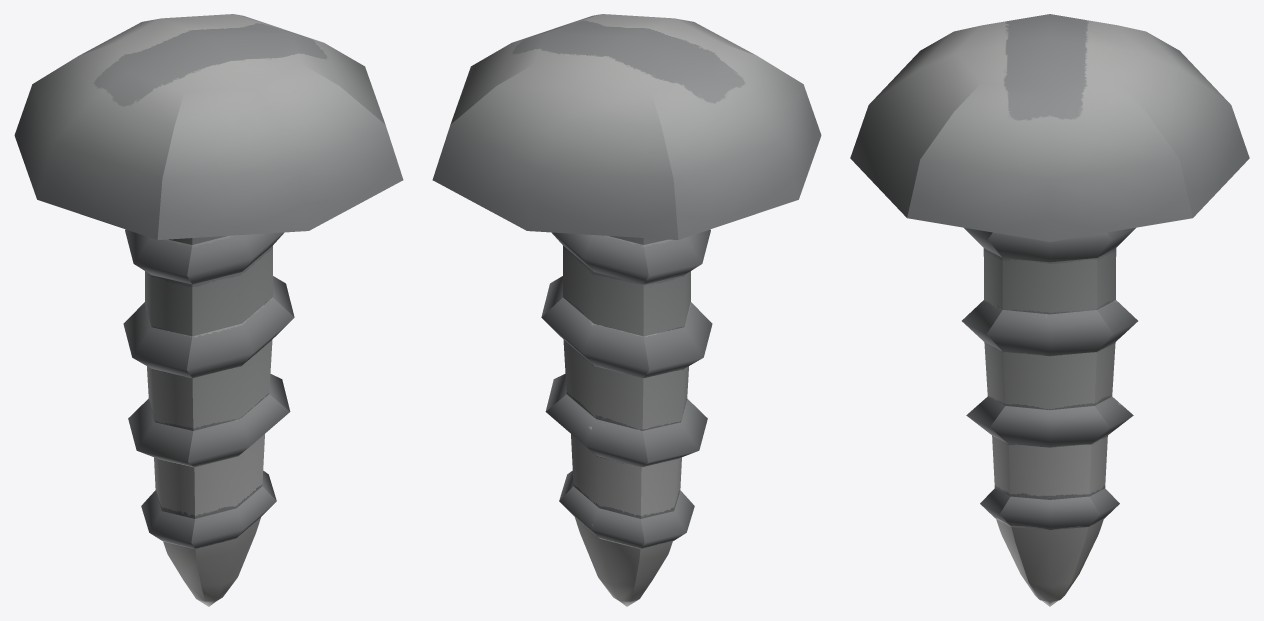
Rendered from screw.fbx.
The picture shows the model from 3 angles, left to right: view 1: azimuth 30°, elevation 25°; view 2: azimuth 150°, elevation 25°; view 3: azimuth 270°, elevation 25°; orthographic projection.
Visible parts, largest first — view 1: screw; view 2: screw; view 3: screw.
Boxes of the visible parts, bbox=[...] form: screw: bbox=[14, 14, 403, 606]; screw: bbox=[432, 14, 821, 606]; screw: bbox=[850, 14, 1249, 606].
Bounding box in the file's own units: 2.97 × 4.71 × 3.
